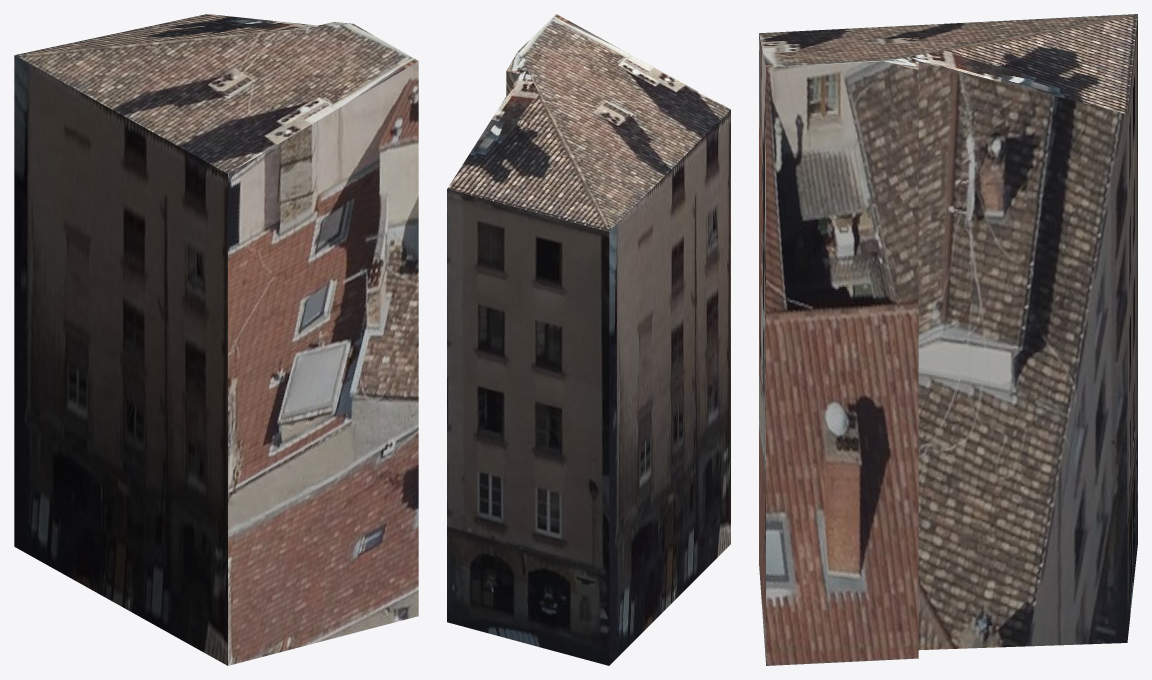
The picture shows the model from 3 angles, left to right: view 1: azimuth 30°, elevation 25°; view 2: azimuth 150°, elevation 25°; view 3: azimuth 270°, elevation 25°; orthographic projection. The views are drawn at different scales.
Parts seen in each view (by area): view 1: Z_UP; view 2: Z_UP; view 3: Z_UP.
Part boxes in pixels (x1,y1,x2,y2): Z_UP: [14, 14, 418, 665]; Z_UP: [447, 14, 730, 665]; Z_UP: [759, 14, 1137, 665].
Bounding box in the file's own units: 10 × 22.85 × 13.11.
Materials: 2 (1 with a texture image).
